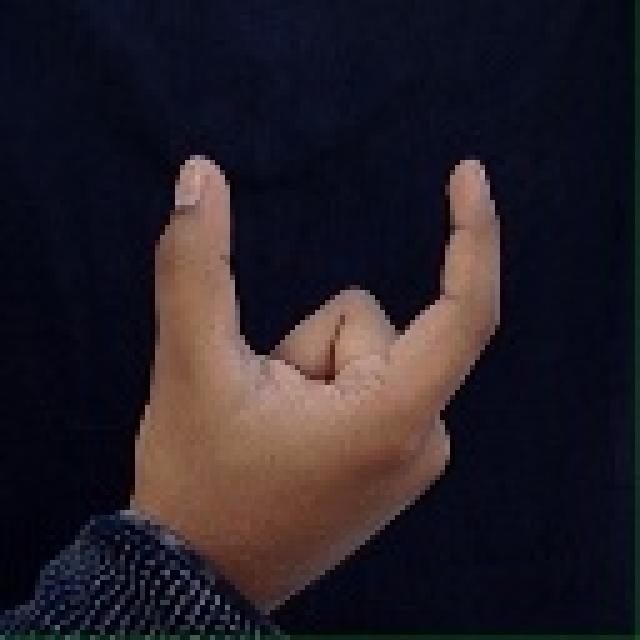Alphabet-U: (130, 130, 514, 625)
